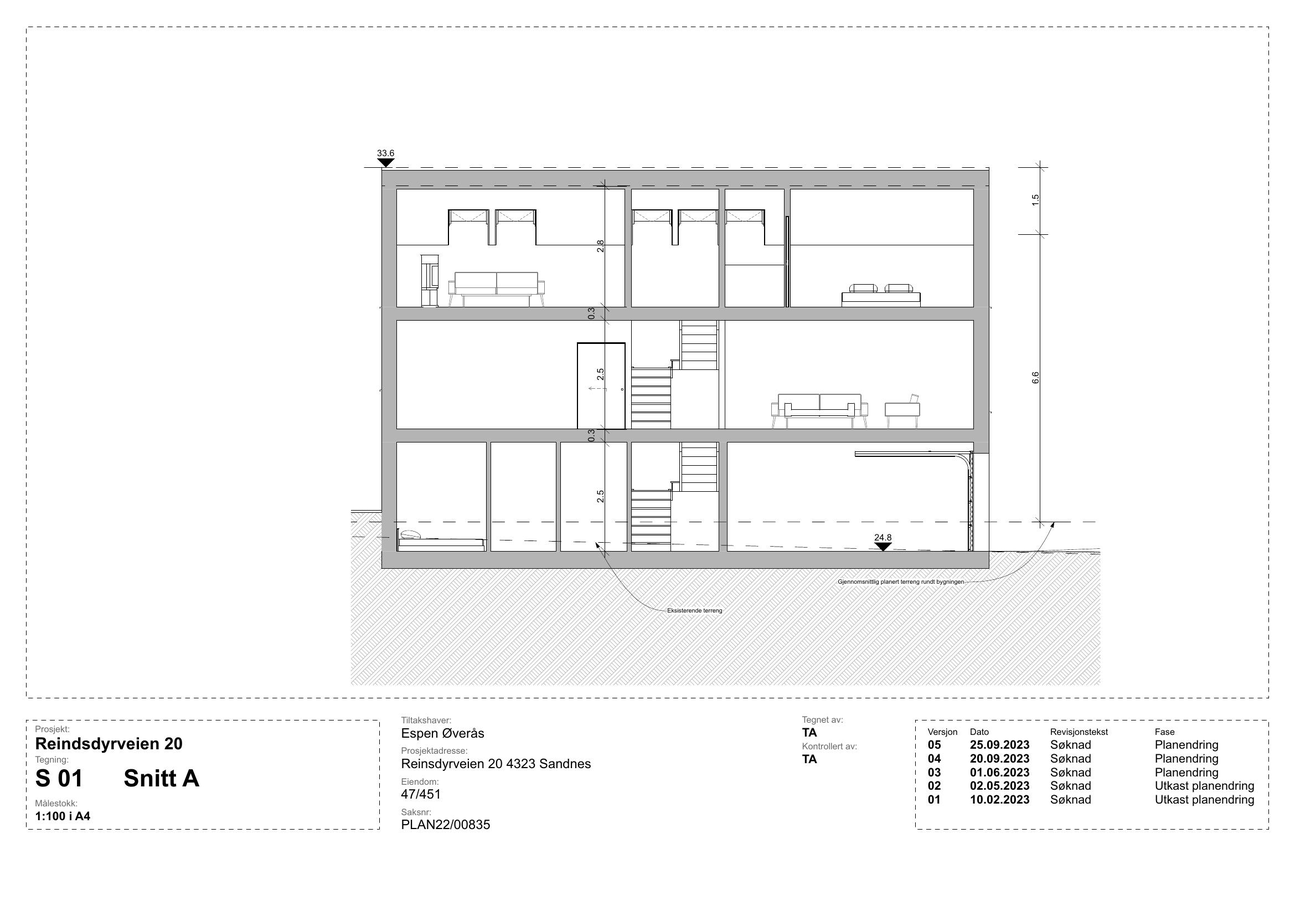snitt: (379, 164, 992, 574)
